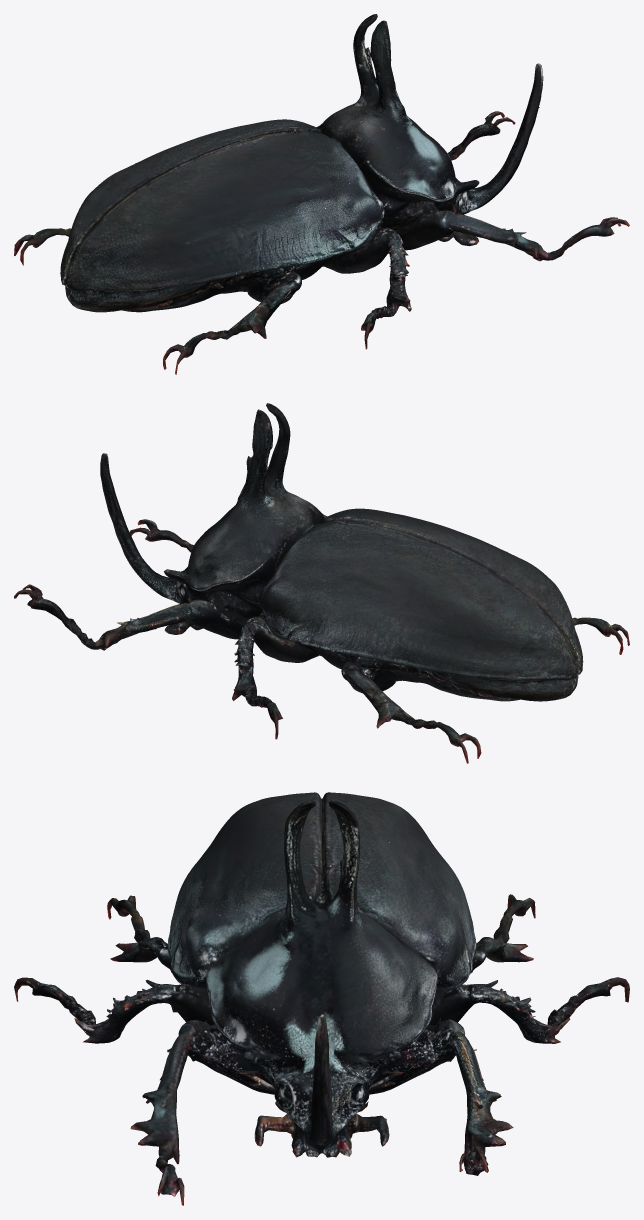
3 renders of one model, top to bottom at view 1: azimuth 30°, elevation 25°; view 2: azimuth 150°, elevation 25°; view 3: azimuth 270°, elevation 25°, orthographic. The views are drawn at different scales.
Parts seen in each view (by area): view 1: tripo_node_5aea22dc-d8fe-4730-ba64-66c3da67f1a2; view 2: tripo_node_5aea22dc-d8fe-4730-ba64-66c3da67f1a2; view 3: tripo_node_5aea22dc-d8fe-4730-ba64-66c3da67f1a2.
Part boxes in pixels (x1,y1,x2,y2): tripo_node_5aea22dc-d8fe-4730-ba64-66c3da67f1a2: (14,14,629,374); tripo_node_5aea22dc-d8fe-4730-ba64-66c3da67f1a2: (14,403,629,763); tripo_node_5aea22dc-d8fe-4730-ba64-66c3da67f1a2: (14,792,629,1205).
Bounding box in the file's own units: 0.9723 × 0.4261 × 0.78.
Materials: 1 (1 with a texture image).
